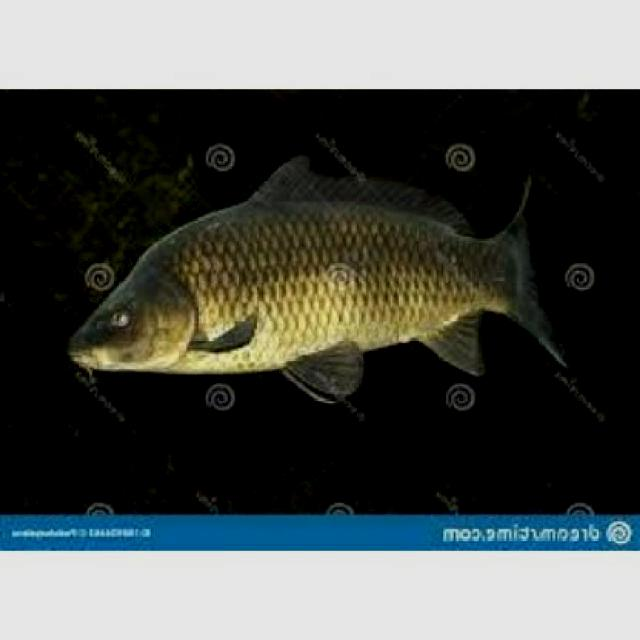ikan-mas: (64, 180, 542, 386)
